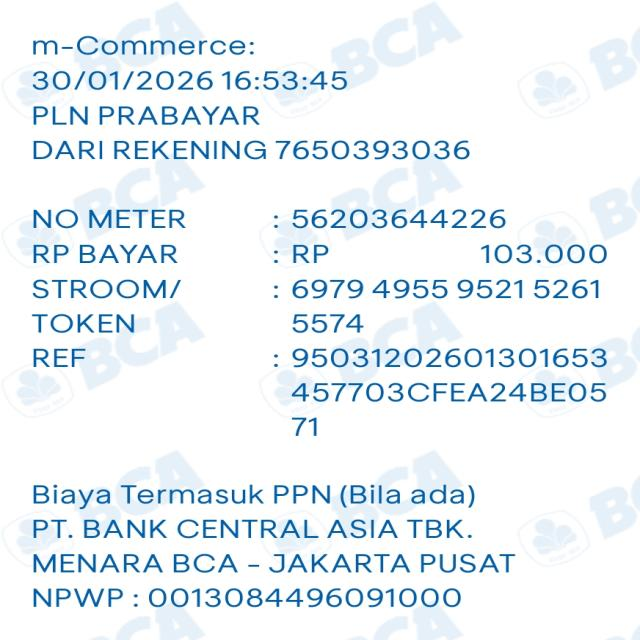date: (26, 68, 366, 98)
store: (25, 99, 269, 135)
total: (285, 237, 624, 273)
